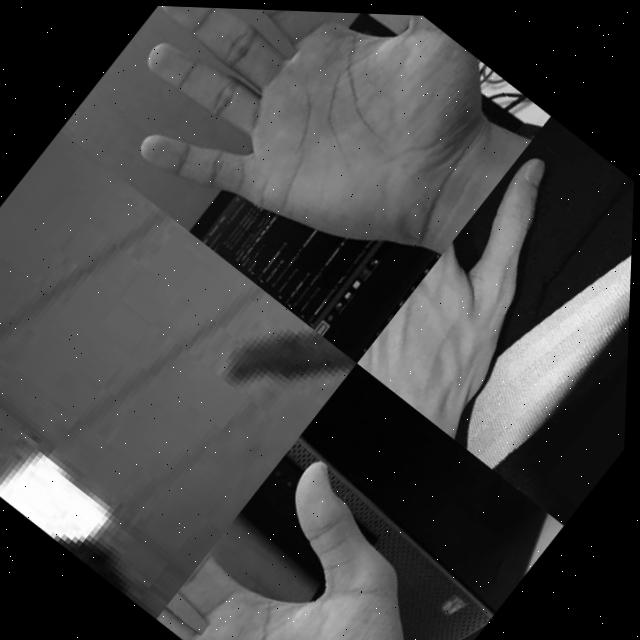hand: (70, 2, 534, 330), (356, 123, 637, 461), (39, 159, 365, 436), (159, 430, 515, 640)
